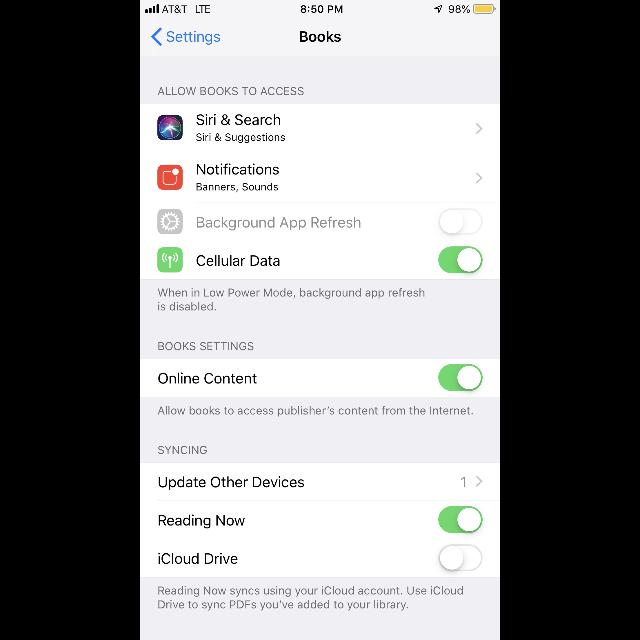icon: (158, 210, 182, 234), (152, 28, 162, 46), (476, 172, 482, 184), (476, 476, 482, 486), (476, 124, 482, 134)
image: (158, 164, 182, 190), (158, 248, 182, 272), (158, 116, 182, 140)
switch: (438, 544, 482, 572), (439, 506, 483, 534), (439, 364, 483, 392), (438, 246, 482, 274), (438, 208, 482, 236)
text: (159, 586, 463, 610), (158, 288, 424, 310), (158, 406, 472, 416), (197, 216, 361, 230), (158, 476, 304, 490), (159, 514, 245, 528), (158, 87, 304, 95), (159, 372, 257, 383), (197, 114, 281, 126), (158, 552, 238, 564), (197, 163, 279, 174), (197, 133, 285, 143), (196, 256, 280, 266), (196, 183, 278, 193), (158, 342, 254, 350), (167, 31, 220, 45), (157, 445, 207, 455), (300, 32, 340, 42), (461, 477, 465, 487)
uppertaskbar: (140, 0, 500, 14)
